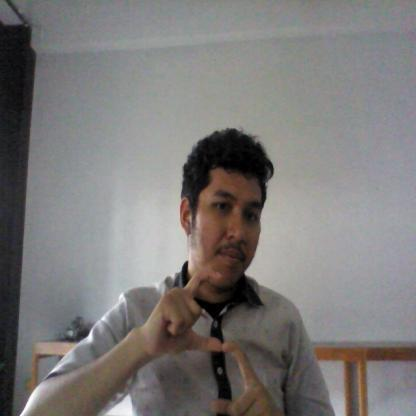S: (144, 242, 282, 416)
